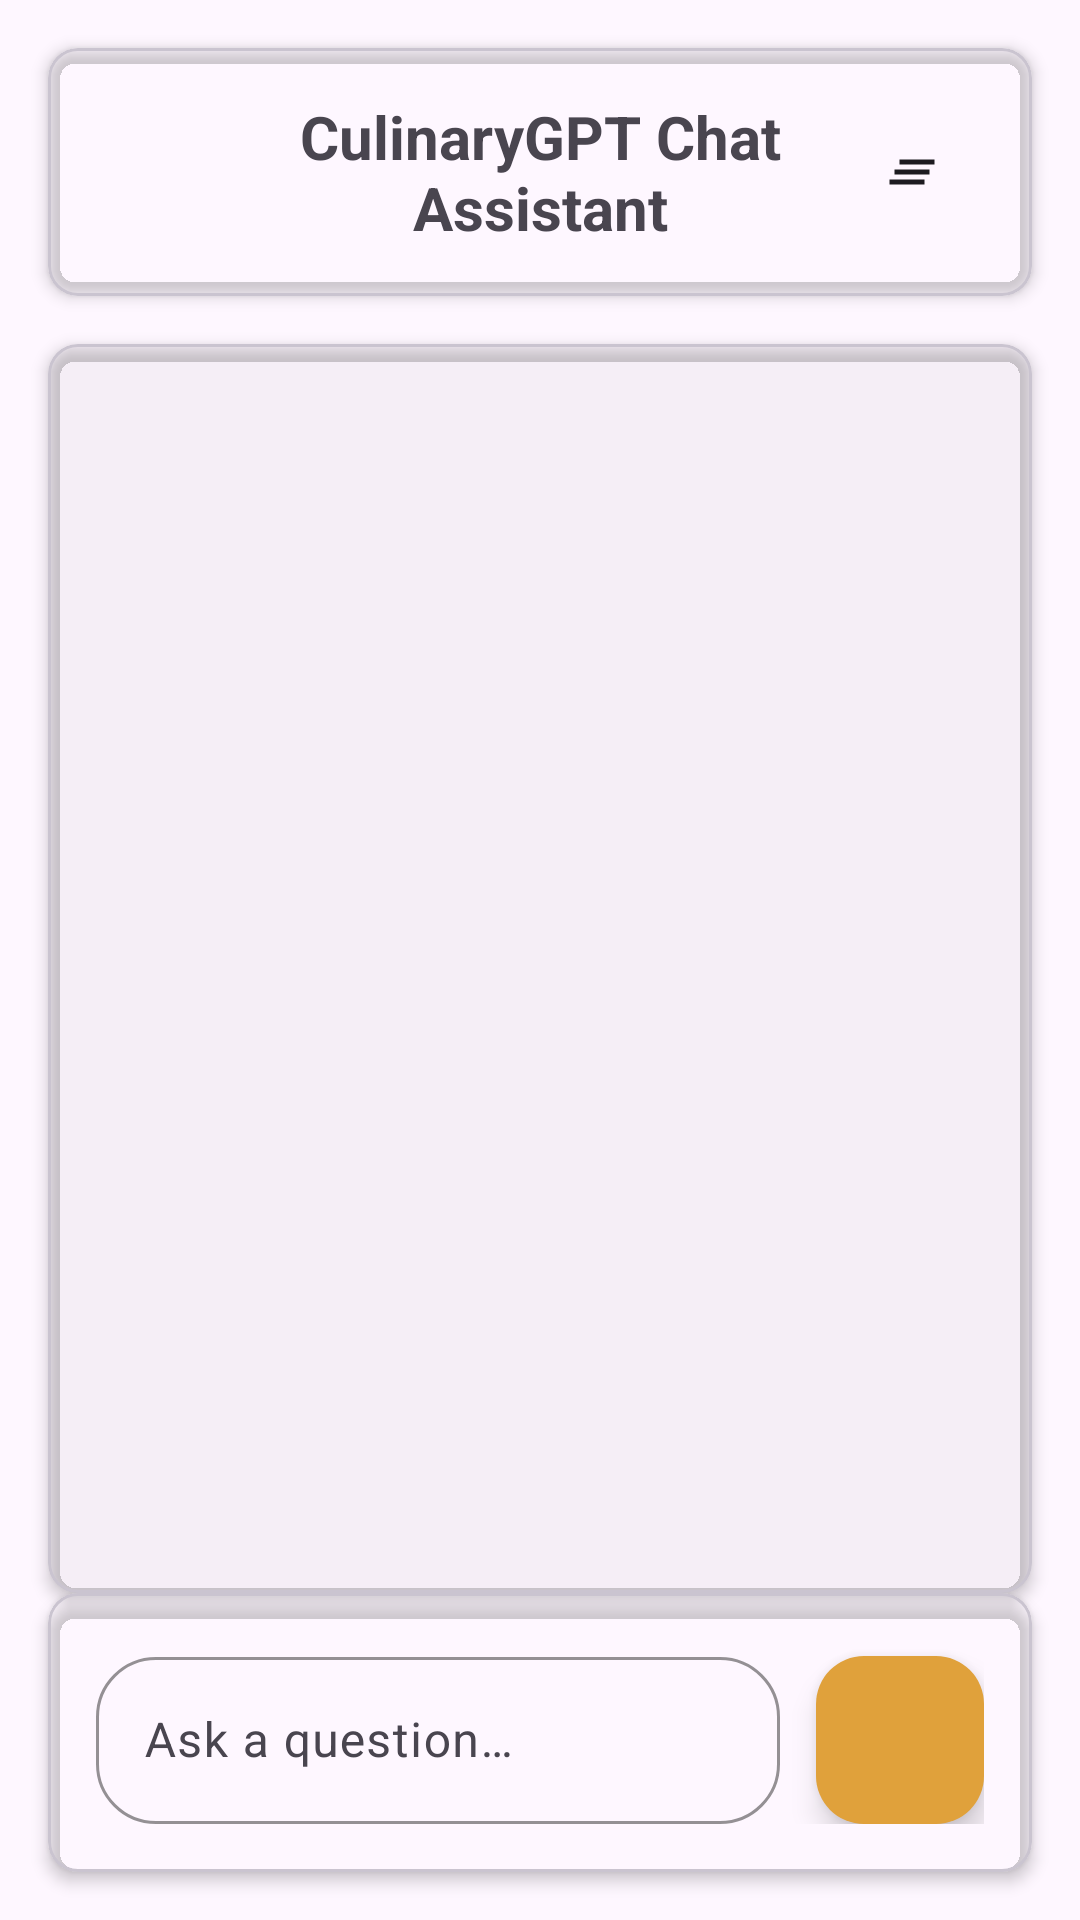

Icon bounding boxes for this 1080*1920 phone screenshot, format (x1=x1, y1=y1, x2=x2, y2=y2):
Clear Chat: (x1=889, y1=159, x2=935, y2=185)
